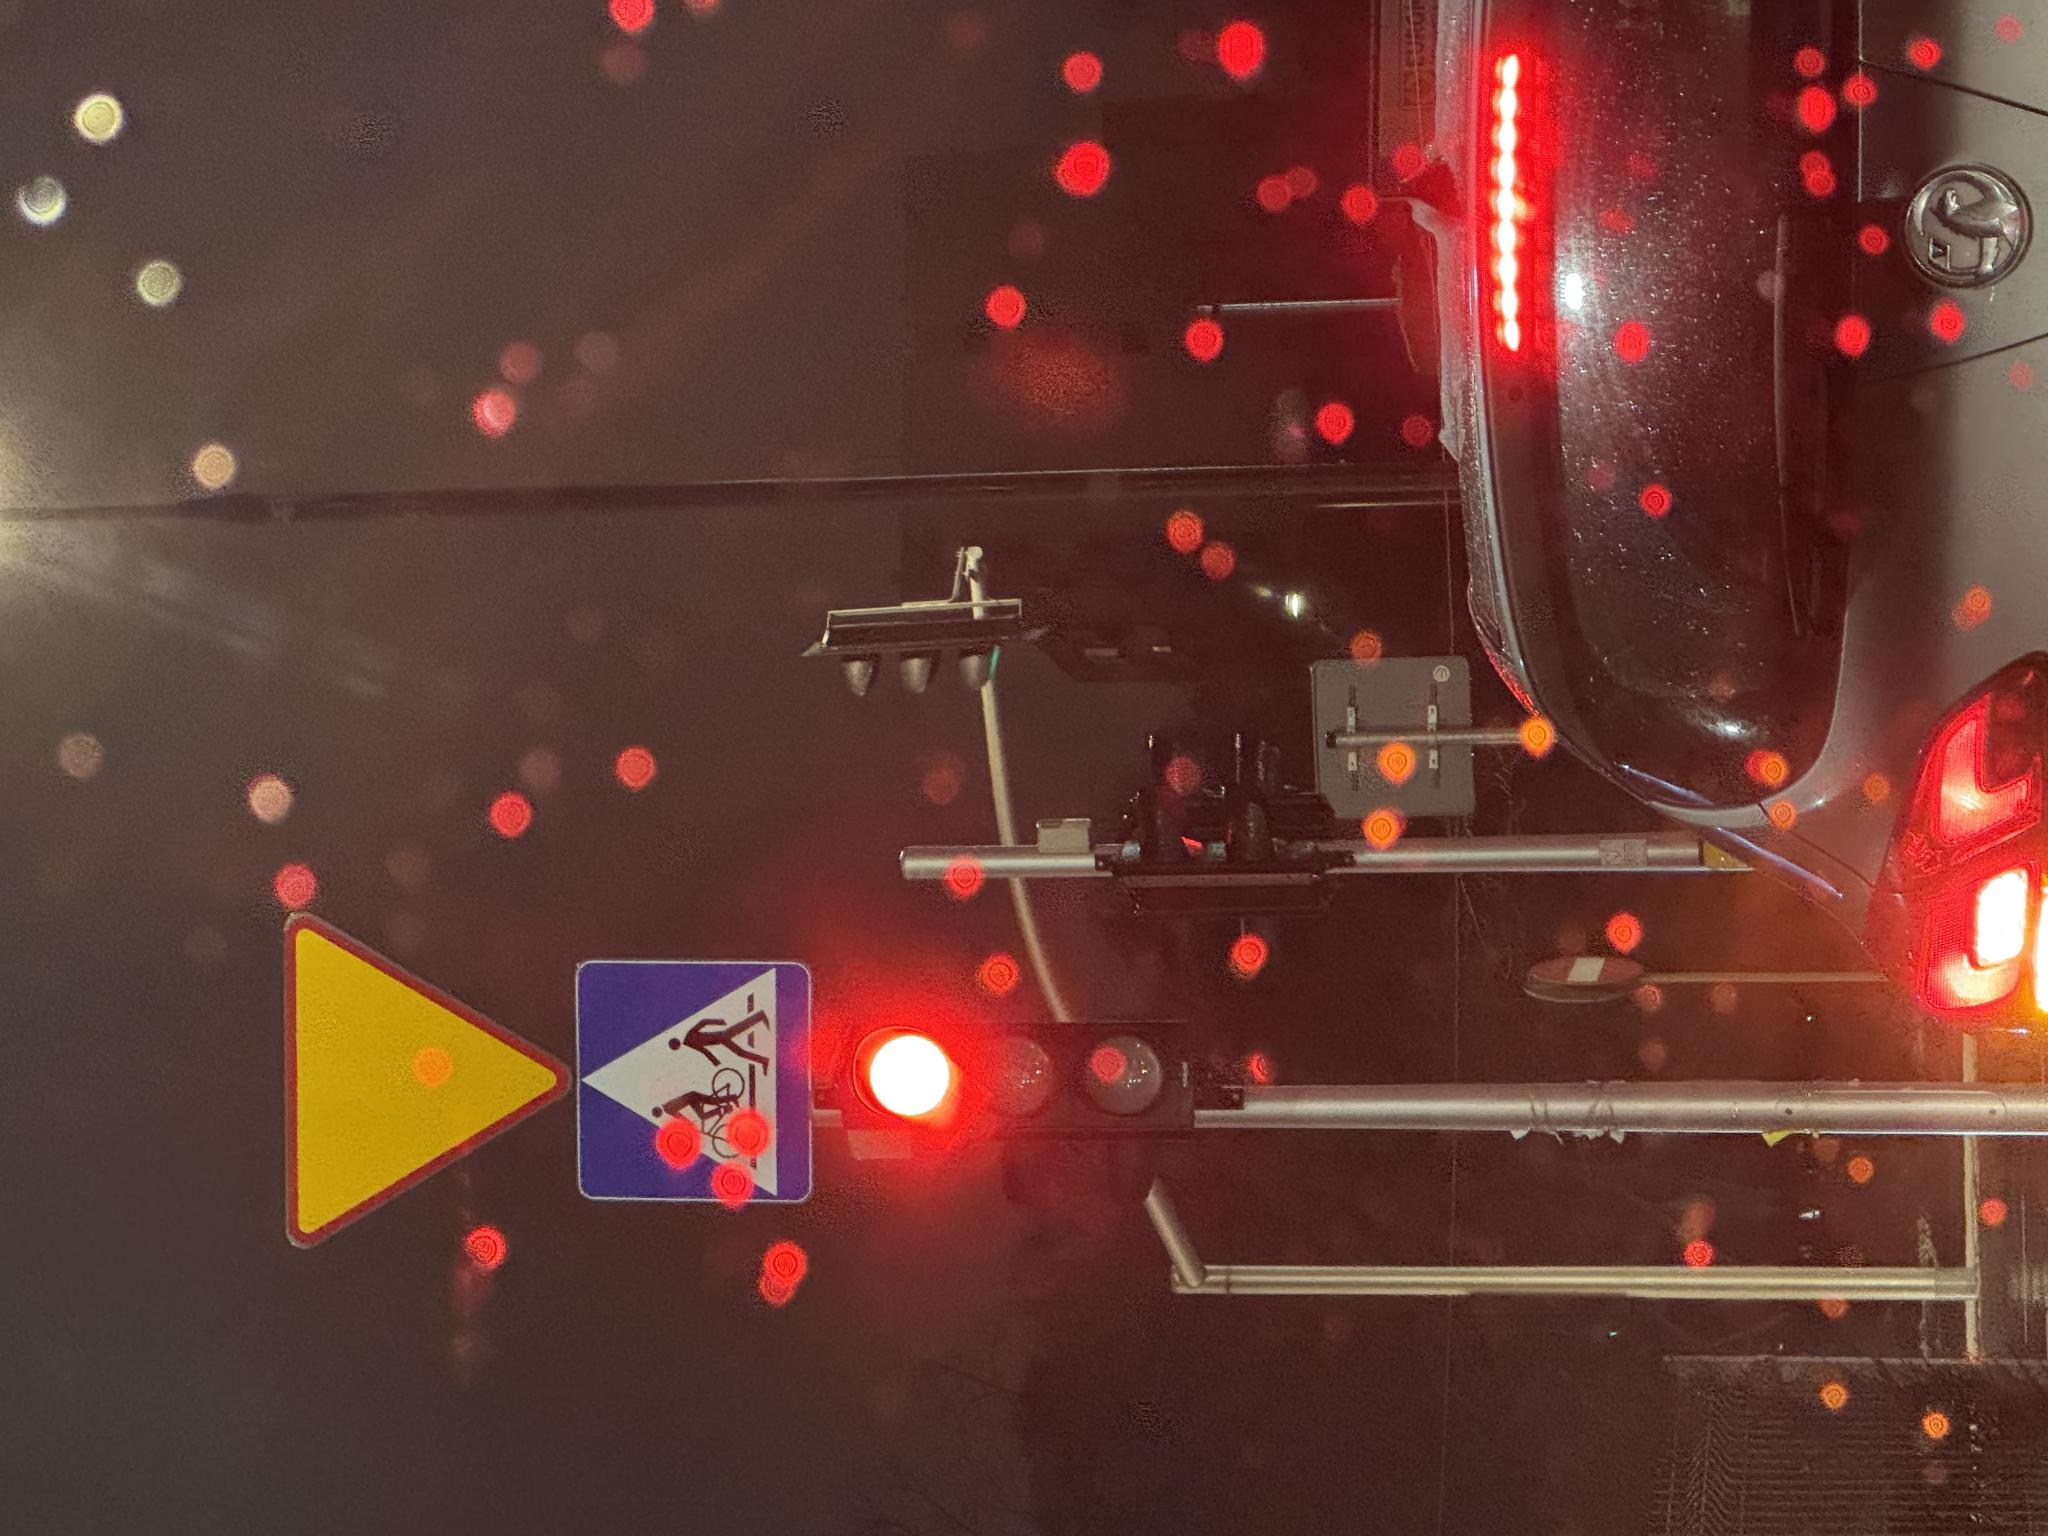information: (332, 573, 576, 813)
warning: (284, 284, 629, 576)
